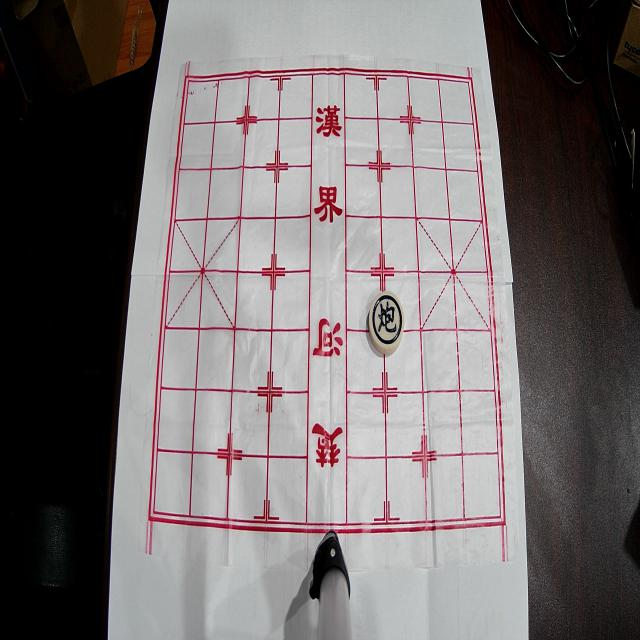black-cannon: (369, 291, 404, 354)
